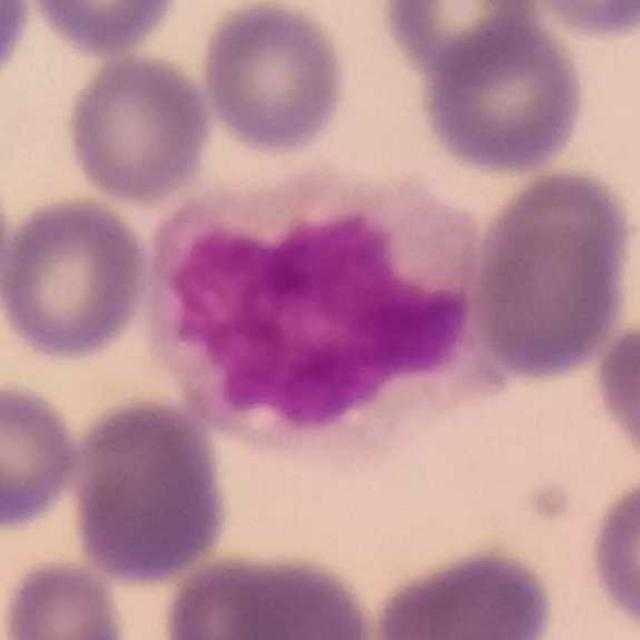mono: (148, 164, 516, 461)
